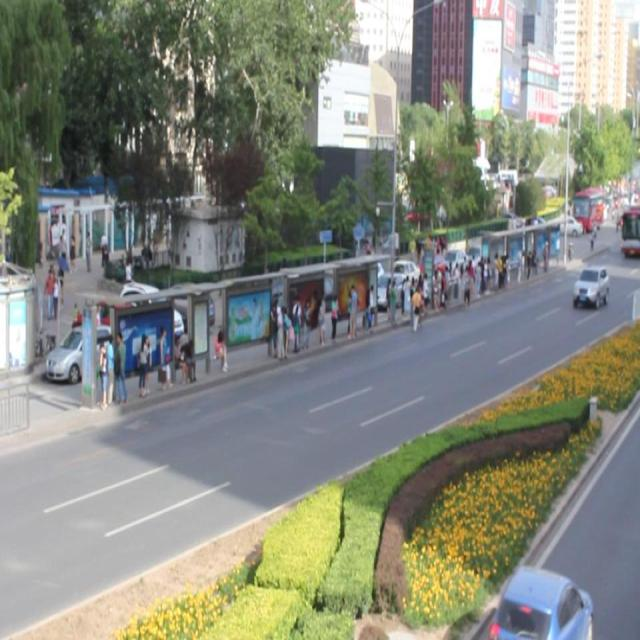car: (572, 264, 607, 308)
